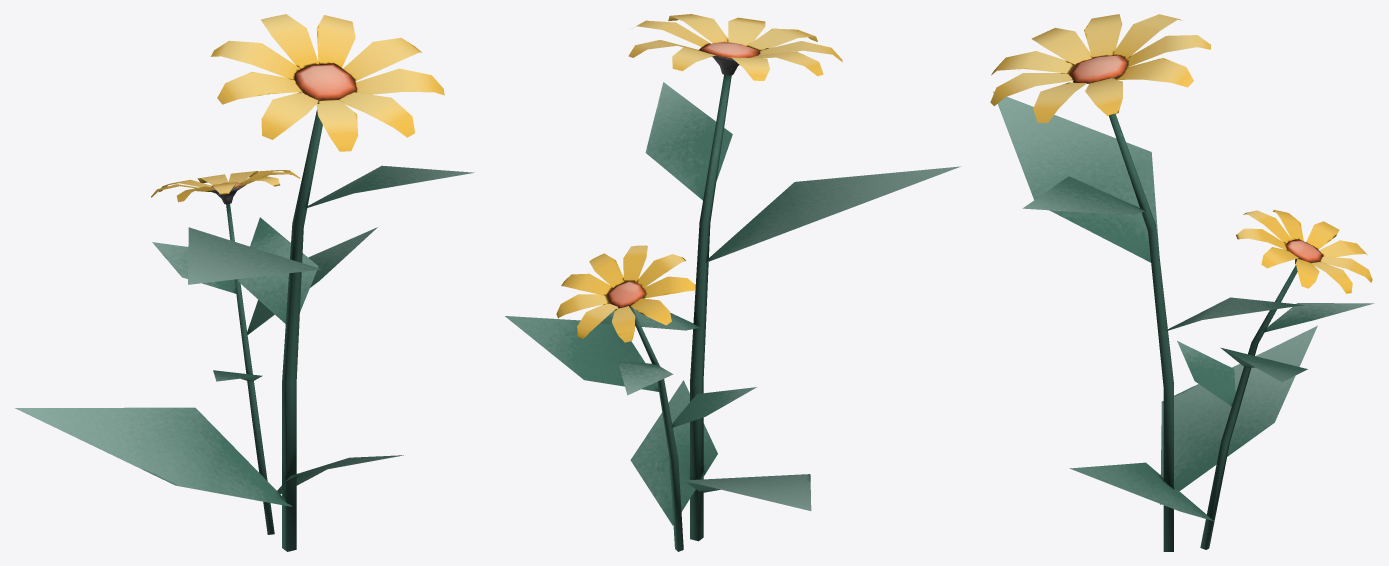
Rendered from Flower Set.fbx.
3 views of the same model, side by side, from view 1: azimuth 30°, elevation 25°; view 2: azimuth 150°, elevation 25°; view 3: azimuth 270°, elevation 25° (orthographic). The views are drawn at different scales.
Visible parts, largest first — view 1: Cube.002; view 2: Cube.002; view 3: Cube.002.
Part boxes in pixels (<box>): Cube.002: <box>15,14,474,551</box>; Cube.002: <box>505,14,960,551</box>; Cube.002: <box>990,14,1374,551</box>.
Bounding box in the file's own units: 0.2532 × 0.2505 × 0.3653.
